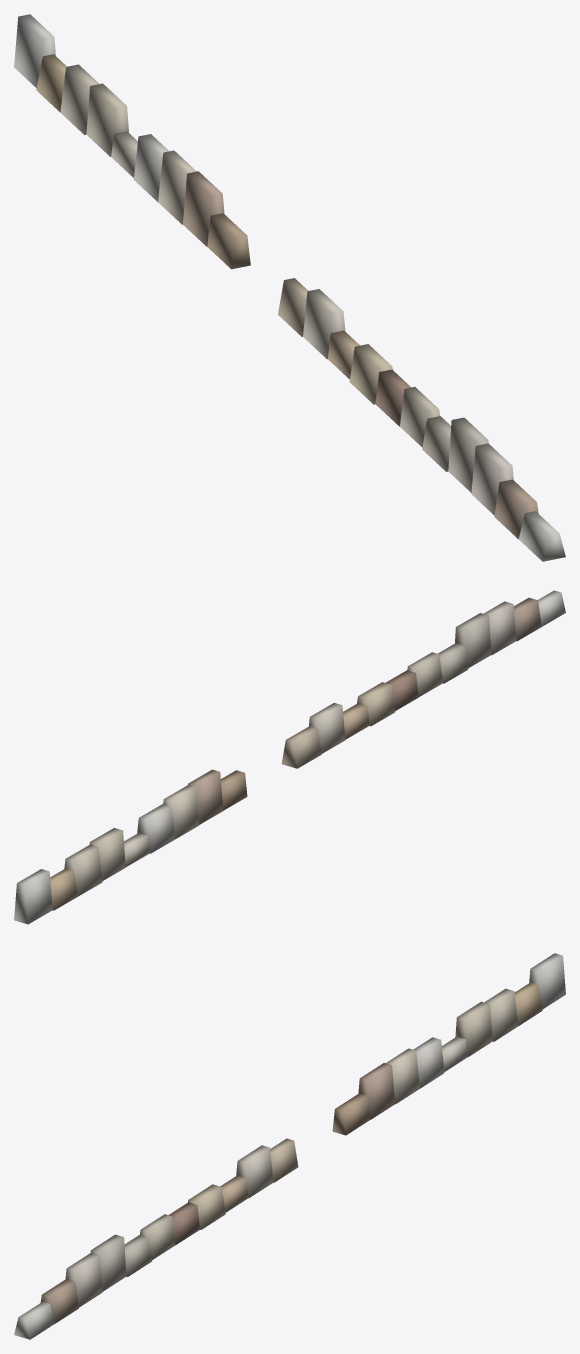
Rendered from farm_7_12_collision.glb.
The picture shows the model from 3 angles, top to bottom: view 1: azimuth 30°, elevation 25°; view 2: azimuth 150°, elevation 25°; view 3: azimuth 330°, elevation 25°; orthographic projection. The views are drawn at different scales.
Visible parts, largest first — view 1: geometry_0; view 2: geometry_0; view 3: geometry_0.
Part boxes in pixels (x1,y1,x2,y2): geometry_0: (14, 14, 565, 561); geometry_0: (14, 590, 565, 924); geometry_0: (14, 953, 565, 1339).
Bounding box in the file's own units: 3.43 × 2.19 × 34.19.
